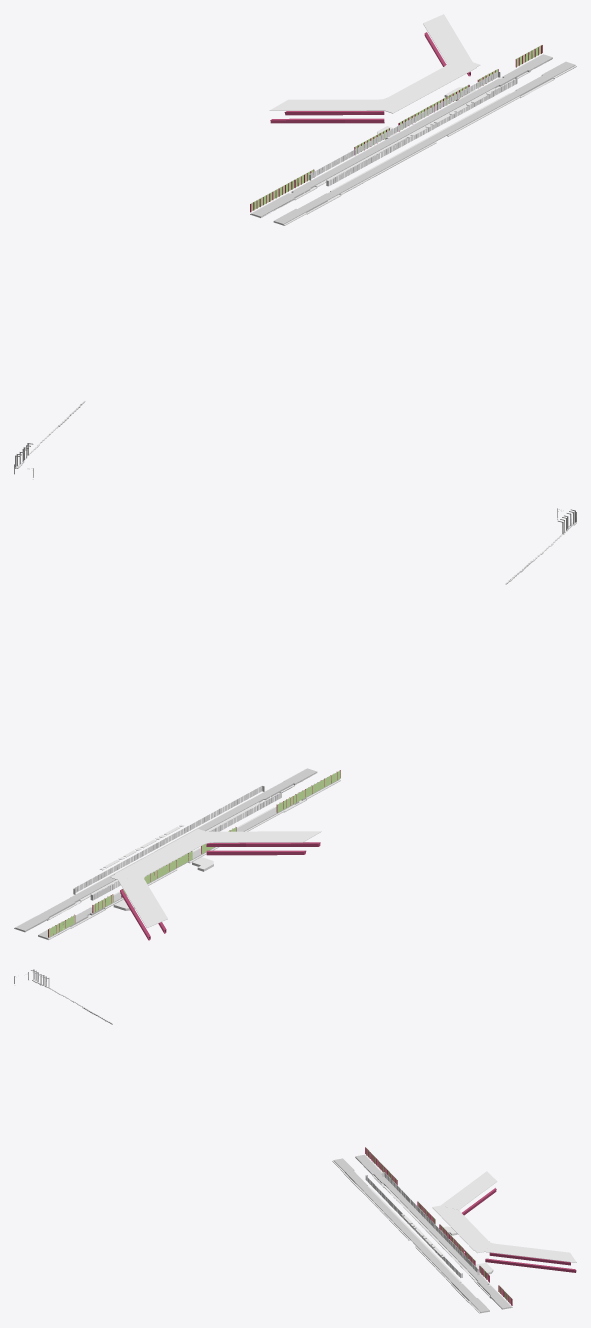
Rendered from TCE18_P1.gltf.
The picture shows the model from 3 angles, top to bottom: view 1: azimuth 30°, elevation 25°; view 2: azimuth 210°, elevation 25°; view 3: azimuth 270°, elevation 25°; orthographic projection. The views are drawn at different scales.
Visible parts, largest first — view 1: Solid.018, MTR.Mass.Concrete.Fill.001, Solid.016, MTR.Mass.Concrete.Fill, Solid.004, Solid.005; view 2: Solid.018, MTR.Mass.Concrete.Fill.001, Solid.016, MTR.Mass.Concrete.Fill, Solid.005; view 3: Solid.018, MTR.Mass.Concrete.Fill.001, Solid.016, MTR.Mass.Concrete.Fill.
Part boxes in pixels (x1=…): Solid.018: x1=269, y1=14, x2=480, y2=113; MTR.Mass.Concrete.Fill.001: x1=251, y1=54, x2=575, y2=224; Solid.016: x1=250, y1=54, x2=576, y2=225; MTR.Mass.Concrete.Fill: x1=286, y1=66, x2=553, y2=212; Solid.004: x1=350, y1=81, x2=480, y2=156; Solid.005: x1=370, y1=87, x2=500, y2=163; Solid.018: x1=110, y1=829, x2=321, y2=927; MTR.Mass.Concrete.Fill.001: x1=15, y1=768, x2=339, y2=938; Solid.016: x1=14, y1=768, x2=340, y2=939; MTR.Mass.Concrete.Fill: x1=38, y1=780, x2=305, y2=926; Solid.005: x1=91, y1=808, x2=221, y2=884; Solid.018: x1=432, y1=1171, x2=576, y2=1262; MTR.Mass.Concrete.Fill.001: x1=333, y1=1154, x2=511, y2=1312; Solid.016: x1=332, y1=1155, x2=512, y2=1313; MTR.Mass.Concrete.Fill: x1=345, y1=1170, x2=499, y2=1300.
Size of the model in its own units: 564 by 18.65 by 402.
